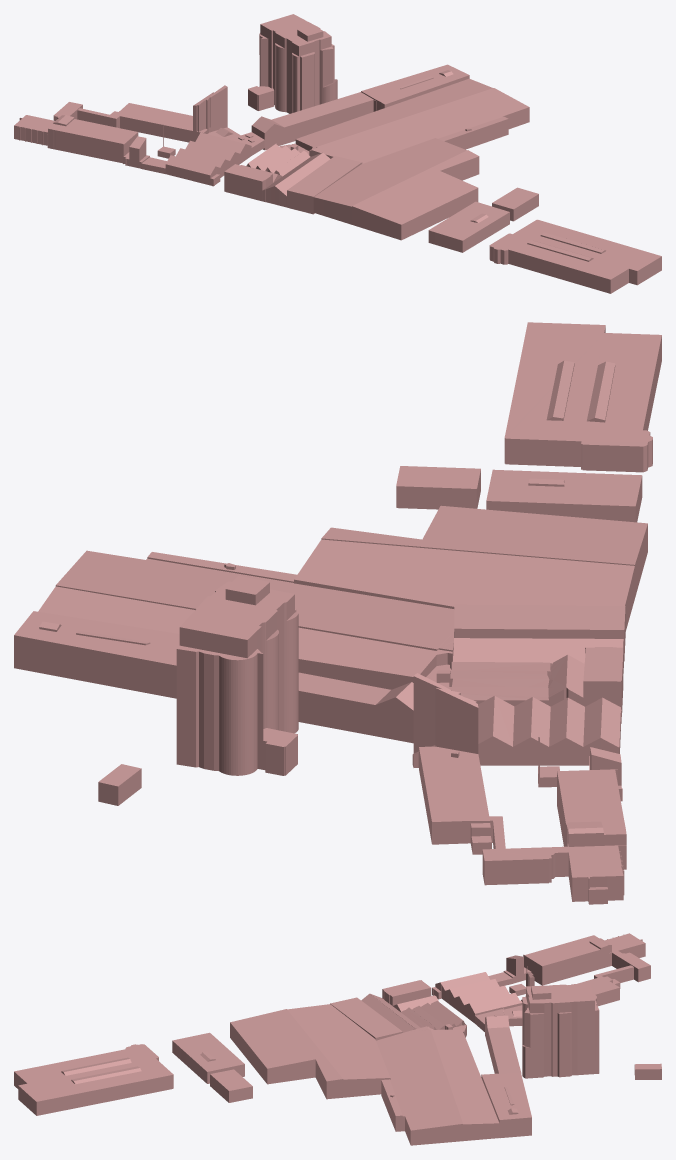
The model's file is additional_buildings_lod22_review-b5a156bbeaa7.glb.
3 views of the same model, one above another, from view 1: azimuth 30°, elevation 25°; view 2: azimuth 150°, elevation 25°; view 3: azimuth 270°, elevation 25° (orthographic). The views are drawn at different scales.
Parts seen in each view (by area): view 1: BAG_0606100000016136, BAG_0606100000002464, BAG_0606100000019105, BAG_0606100000015331, BAG_0606100000001363, BAG_0606100000015637, BAG_0606100000000850, BAG_0606100000013084, BAG_0606100000011743, BAG_0606100000002076, BAG_0606100000003240; view 2: BAG_0606100000016136, BAG_0606100000002464, BAG_0606100000015331, BAG_0606100000019105, BAG_0606100000001363, BAG_0606100000000850, BAG_0606100000015637, BAG_0606100000013084, BAG_0606100000002076, BAG_0606100000011743, BAG_0606100000005763; view 3: BAG_0606100000016136, BAG_0606100000002464, BAG_0606100000019105, BAG_0606100000015331, BAG_0606100000001363, BAG_0606100000015637, BAG_0606100000013084, BAG_0606100000000850, BAG_0606100000002076, BAG_0606100000003240, BAG_0606100000005763, BAG_0606100000011743.
Part boxes in pixels (x1,y1,x2,y2): BAG_0606100000016136: (224,64,529,214); BAG_0606100000002464: (313,138,479,240); BAG_0606100000019105: (489,219,661,293); BAG_0606100000015331: (248,14,337,113); BAG_0606100000001363: (14,102,138,163); BAG_0606100000015637: (165,132,264,186); BAG_0606100000000850: (77,92,213,142); BAG_0606100000013084: (428,201,509,252); BAG_0606100000011743: (207,85,240,139); BAG_0606100000002076: (492,187,538,221); BAG_0606100000003240: (123,136,166,173); BAG_0606100000016136: (14,550,625,743); BAG_0606100000002464: (294,505,647,631); BAG_0606100000015331: (176,576,298,775); BAG_0606100000019105: (504,322,661,472); BAG_0606100000001363: (482,769,626,904); BAG_0606100000000850: (419,688,505,854); BAG_0606100000015637: (478,695,621,765); BAG_0606100000013084: (486,469,642,522); BAG_0606100000002076: (396,466,480,509); BAG_0606100000011743: (412,673,451,767); BAG_0606100000005763: (98,764,141,805); BAG_0606100000016136: (330,980,531,1145); BAG_0606100000002464: (230,1004,390,1099); BAG_0606100000019105: (14,1044,173,1115); BAG_0606100000015331: (522,983,599,1078); BAG_0606100000001363: (523,933,650,985); BAG_0606100000015637: (432,972,522,1031); BAG_0606100000013084: (172,1032,244,1083); BAG_0606100000000850: (521,965,633,1006); BAG_0606100000002076: (210,1069,252,1102); BAG_0606100000003240: (488,955,531,986); BAG_0606100000005763: (634,1063,661,1079); BAG_0606100000011743: (503,974,534,1026).
Size of the model in its own units: 220 by 42.15 by 305.
